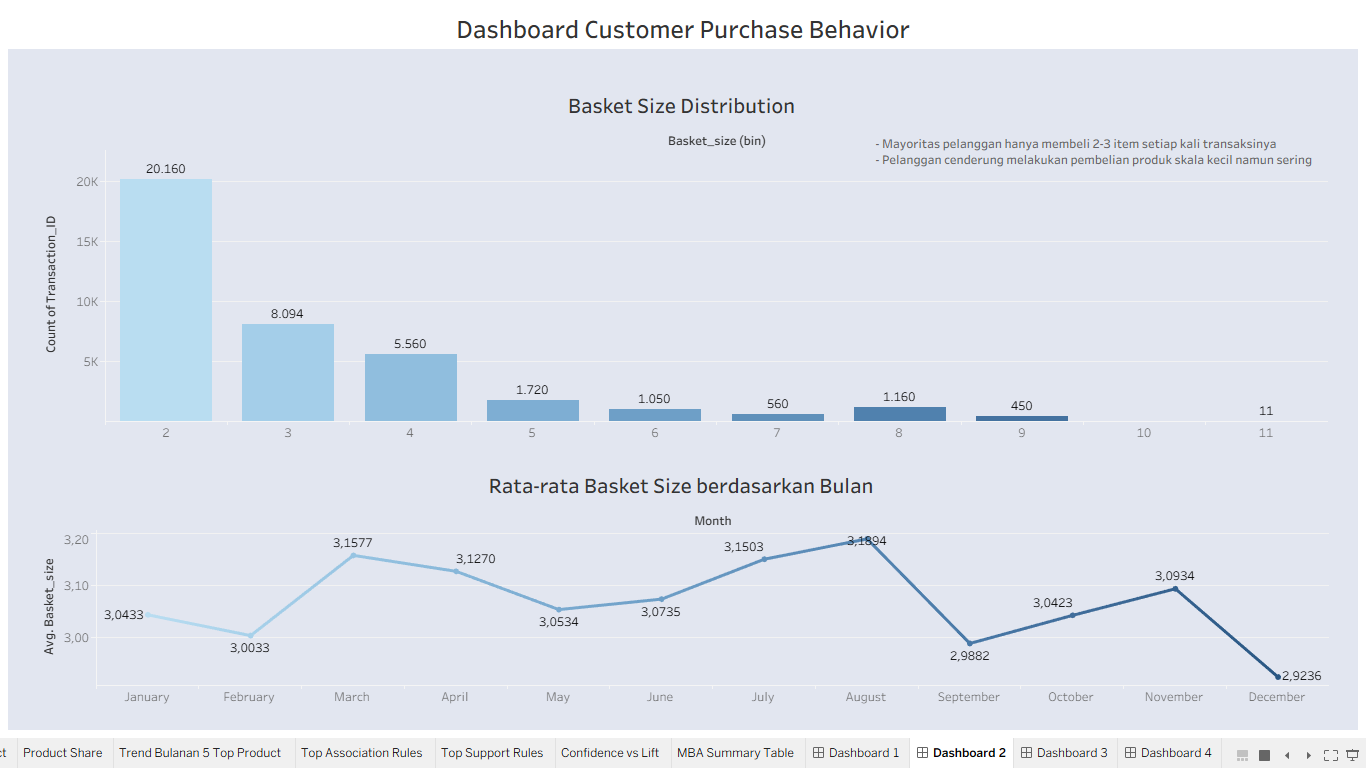

Layout of this report page (visuals, bound fields, positions):
{"tool":"tableau","page":{"name":"Dashboard 2","canvas":[1000,1000],"units":"permille","ordinal":1},"visuals":[{"type":"title","box":[6.9,13.5,986.1,69.2]},{"type":"worksheet","title":"Basket Size Distribution","mark":"Automatic","rows":["Transaction_ID"],"cols":["Basket_size (bin)"],"box":[26,118.2,946.3,481.4]},{"type":"text","box":[639,150.3,332.5,111.5]},{"type":"worksheet","title":"Avg Basket Size/Bulan","mark":"Line","rows":["Basket_size"],"cols":["Month"],"box":[24.2,633.5,948.9,332.8]}]}

Visuals, with their boxes on the dashboard's canvas, which has no fixed pixel size, in thousandths of its width and height (x1, y1, x2, y2). These are canvas units, not pixel positions in the 1366x768 screenshot, which may show the page scaled, cropped or inside an application window:
title: [x1=7, y1=14, x2=993, y2=83]
"Basket Size Distribution" worksheet: [x1=26, y1=118, x2=972, y2=600]
text: [x1=639, y1=150, x2=972, y2=262]
"Avg Basket Size/Bulan" worksheet (Line marks): [x1=24, y1=634, x2=973, y2=966]
